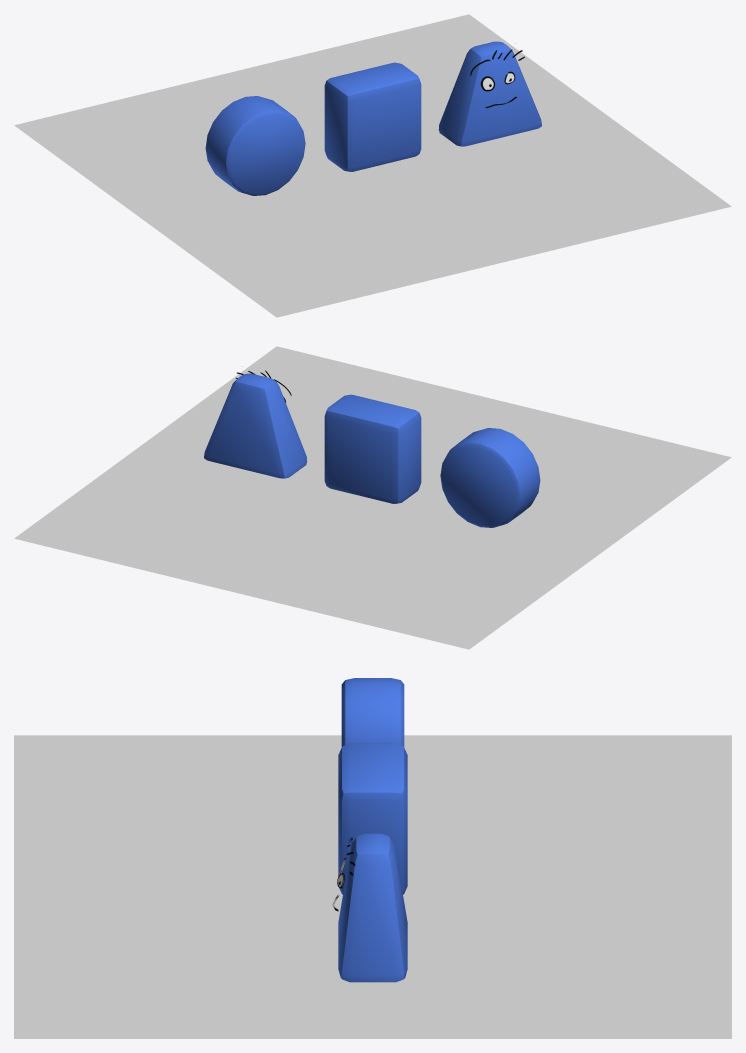
File: primitives.glb
The picture shows the model from 3 angles, top to bottom: view 1: azimuth 30°, elevation 25°; view 2: azimuth 150°, elevation 25°; view 3: azimuth 270°, elevation 25°; orthographic projection. The views are drawn at different scales.
Parts seen in each view (by area): view 1: Plane, Square, Cylinder, Triangle; view 2: Plane, Square, Cylinder, Triangle; view 3: Plane, Triangle, Square, Cylinder.
Part boxes in pixels (x1=…): Plane: x1=14, y1=14, x2=731, y2=317; Square: x1=324, y1=62, x2=421, y2=171; Cylinder: x1=205, y1=96, x2=305, y2=195; Triangle: x1=438, y1=41, x2=541, y2=146; Plane: x1=14, y1=346, x2=731, y2=649; Square: x1=324, y1=394, x2=421, y2=503; Cylinder: x1=440, y1=428, x2=540, y2=527; Triangle: x1=204, y1=366, x2=307, y2=478; Plane: x1=14, y1=735, x2=731, y2=1038; Triangle: x1=332, y1=833, x2=407, y2=982; Square: x1=338, y1=743, x2=407, y2=894; Cylinder: x1=341, y1=678, x2=404, y2=746.
Bounding box in the file's own units: 11.63 × 2.31 × 11.63.
Materials: 2 (1 with a texture image).
